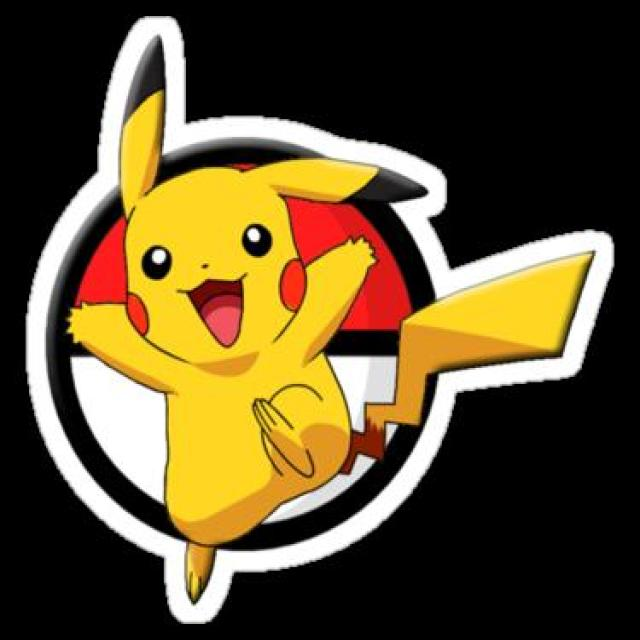pikachu: (71, 38, 594, 604)
